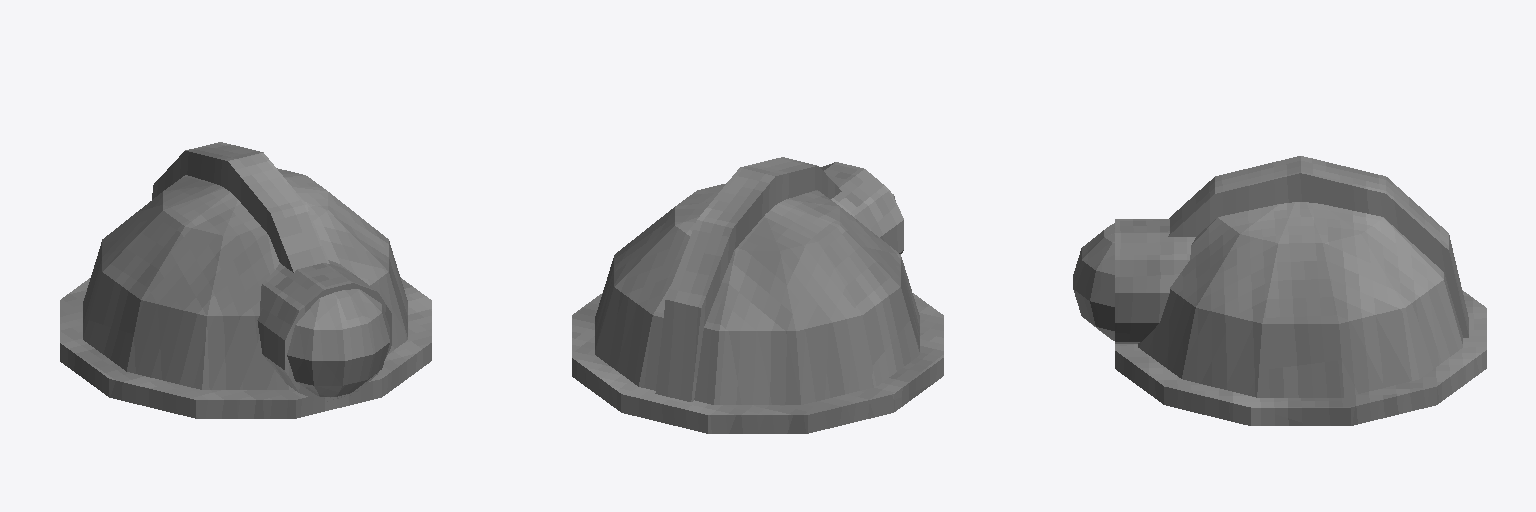
The picture shows the model from 3 angles: view 1: azimuth 30°, elevation 25°; view 2: azimuth 150°, elevation 25°; view 3: azimuth 270°, elevation 25°; orthographic projection.
Visible parts, largest first — view 1: sphere, cylinder; view 2: sphere, cylinder; view 3: sphere, cylinder.
Boxes of the visible parts, <box> form: sphere: <box>83,168,407,396</box>; cylinder: <box>60,142,431,418</box>; sphere: <box>595,183,919,404</box>; cylinder: <box>572,157,943,433</box>; sphere: <box>1073,202,1462,397</box>; cylinder: <box>1115,156,1486,425</box>.
Size of the model in its own units: 1.12 by 0.6114 by 1.25.
1 materials, 1 textured.